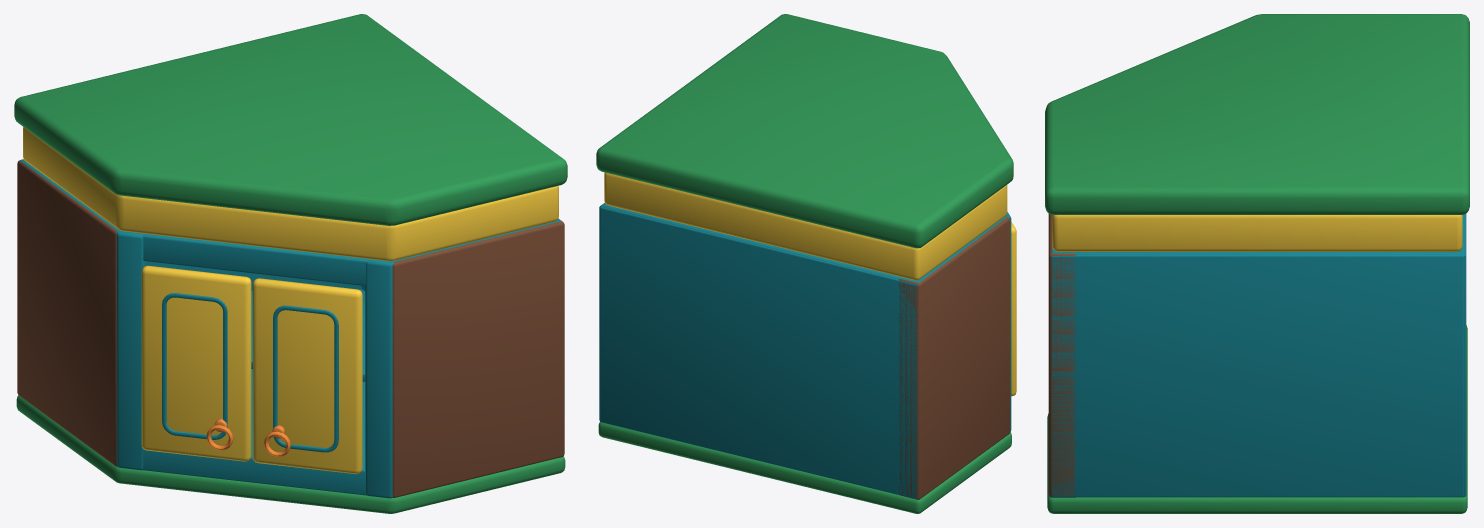
File: armario_parede_canto_chanfrado_colonial_mata.glb
3 views of the same model, side by side, from view 1: azimuth 30°, elevation 25°; view 2: azimuth 150°, elevation 25°; view 3: azimuth 270°, elevation 25° (orthographic). The views are drawn at different scales.
Visible parts, largest first — view 1: armario_parede_canto_chanfrado_colonial_mata, porta_1, porta_2; view 2: armario_parede_canto_chanfrado_colonial_mata, porta_1; view 3: armario_parede_canto_chanfrado_colonial_mata.
Boxes of the visible parts, box(x1,y1,x2,y2) form: armario_parede_canto_chanfrado_colonial_mata: box(14, 14, 567, 513); porta_1: box(141, 265, 251, 461); porta_2: box(253, 278, 362, 473); armario_parede_canto_chanfrado_colonial_mata: box(596, 14, 1013, 513); porta_1: box(1011, 222, 1016, 396); armario_parede_canto_chanfrado_colonial_mata: box(1045, 14, 1469, 513).
Size of the model in its own units: 0.708 by 0.6 by 0.708.
1 material, 1 textured.
